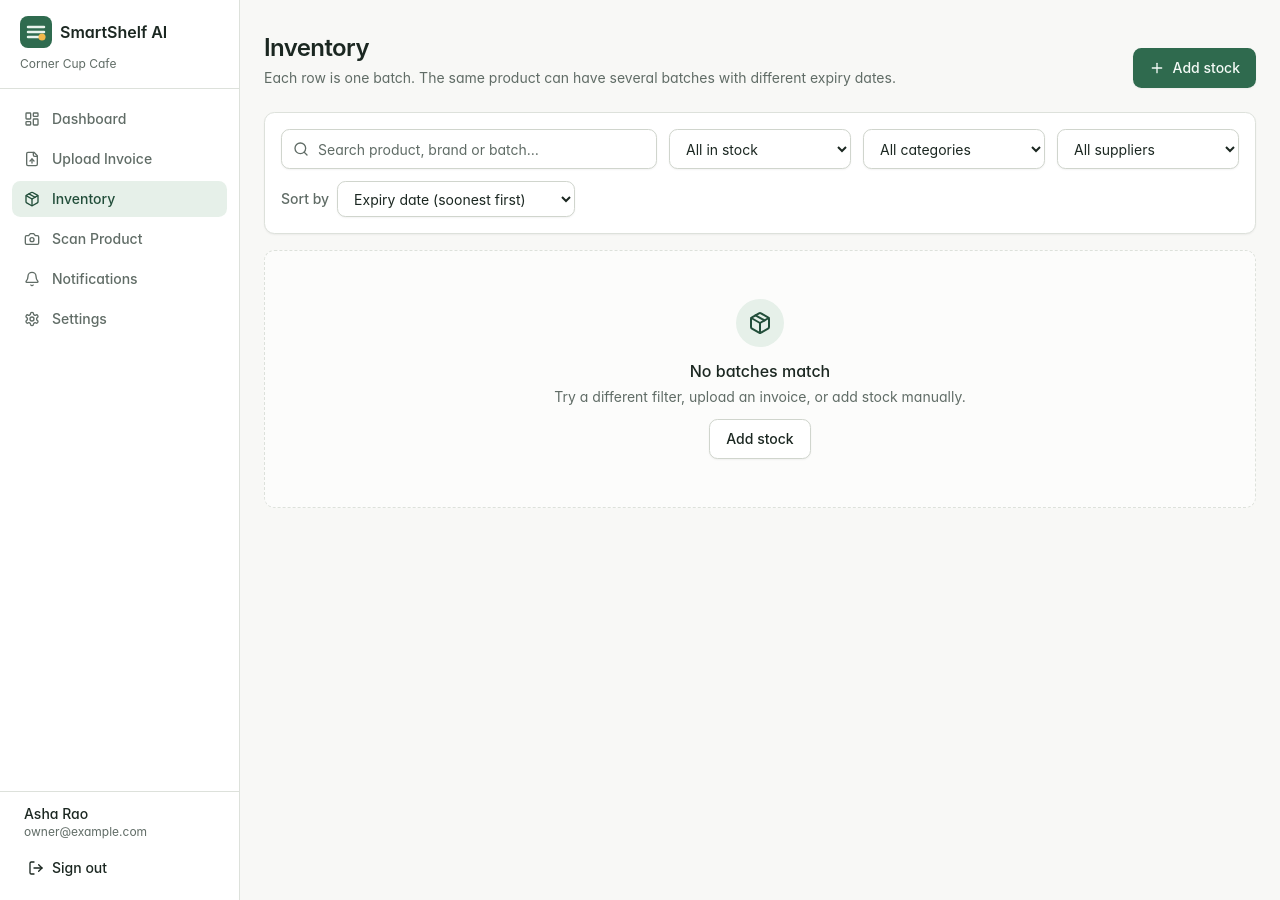
sign out › returns to the sign-in page and forgets the user
Check: the text "Asha Rao" is shown, box top-left (24, 805), bottom-right (88, 822)
What coordinates should you click on to do the following:
click the button "Sign out"
I would click on:
 (120, 868)
Its box is top-left (12, 848), bottom-right (227, 888).
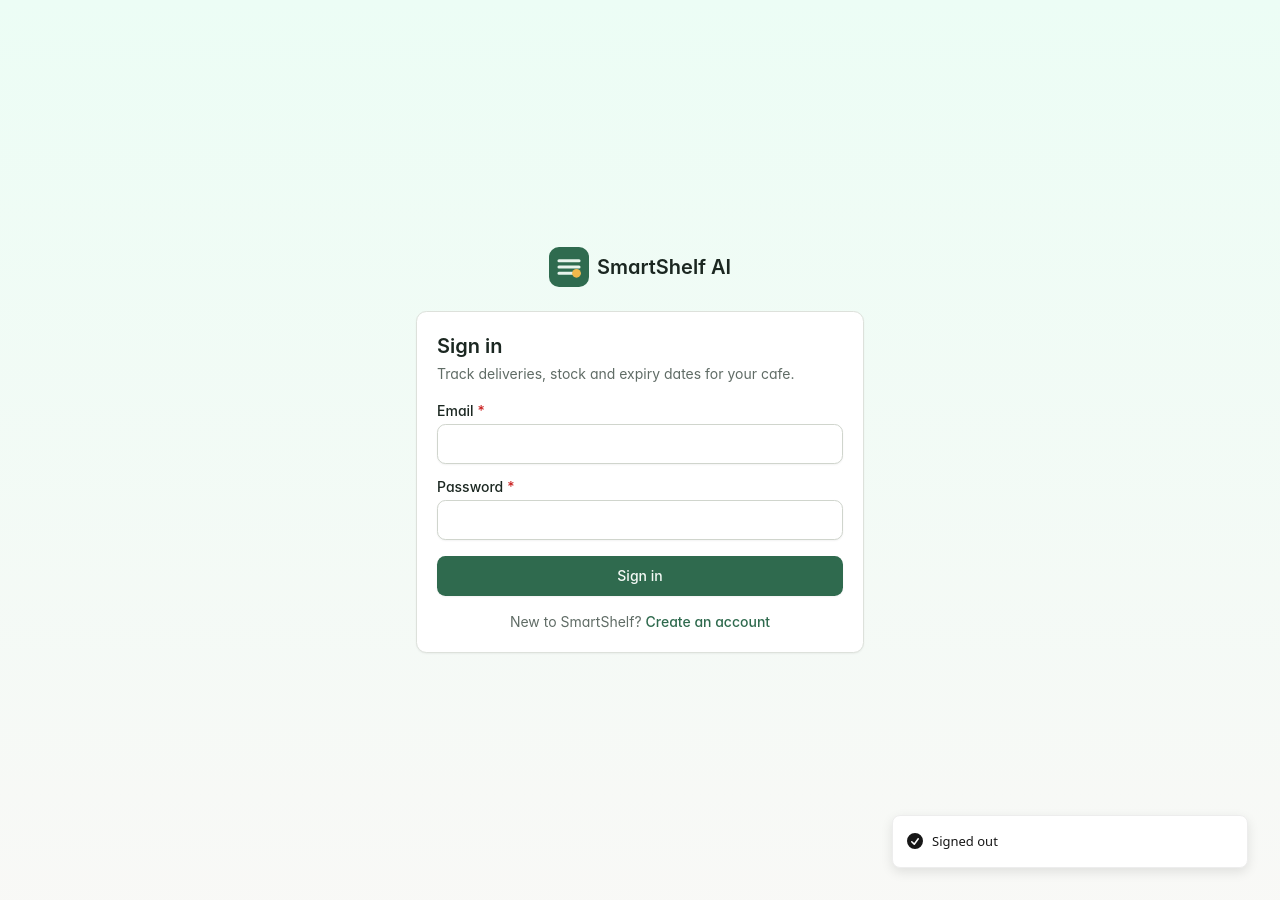
Check: the button "Sign in" is shown, box top-left (437, 556), bottom-right (843, 596)
Check: the text "Asha Rao" is gone
